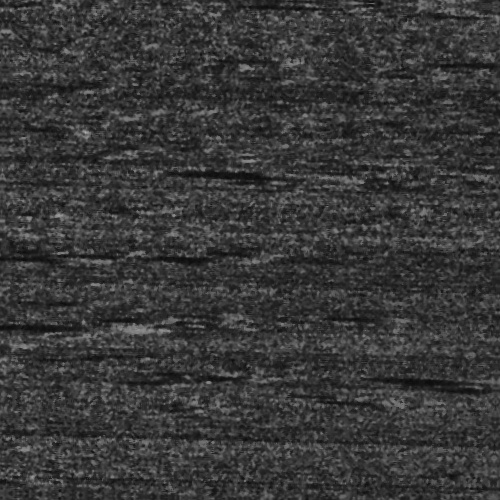object: (83, 324, 176, 335), (278, 167, 371, 176), (50, 258, 123, 265), (478, 371, 500, 376), (228, 256, 259, 259)
shadow: (0, 324, 129, 335), (203, 167, 324, 176), (0, 258, 86, 265), (393, 371, 498, 376), (178, 256, 243, 259)
